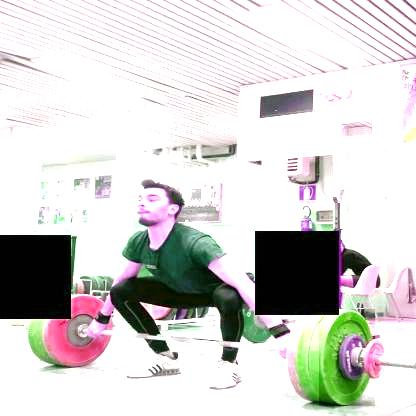barbell: (316, 309, 373, 406), (42, 295, 112, 368)
